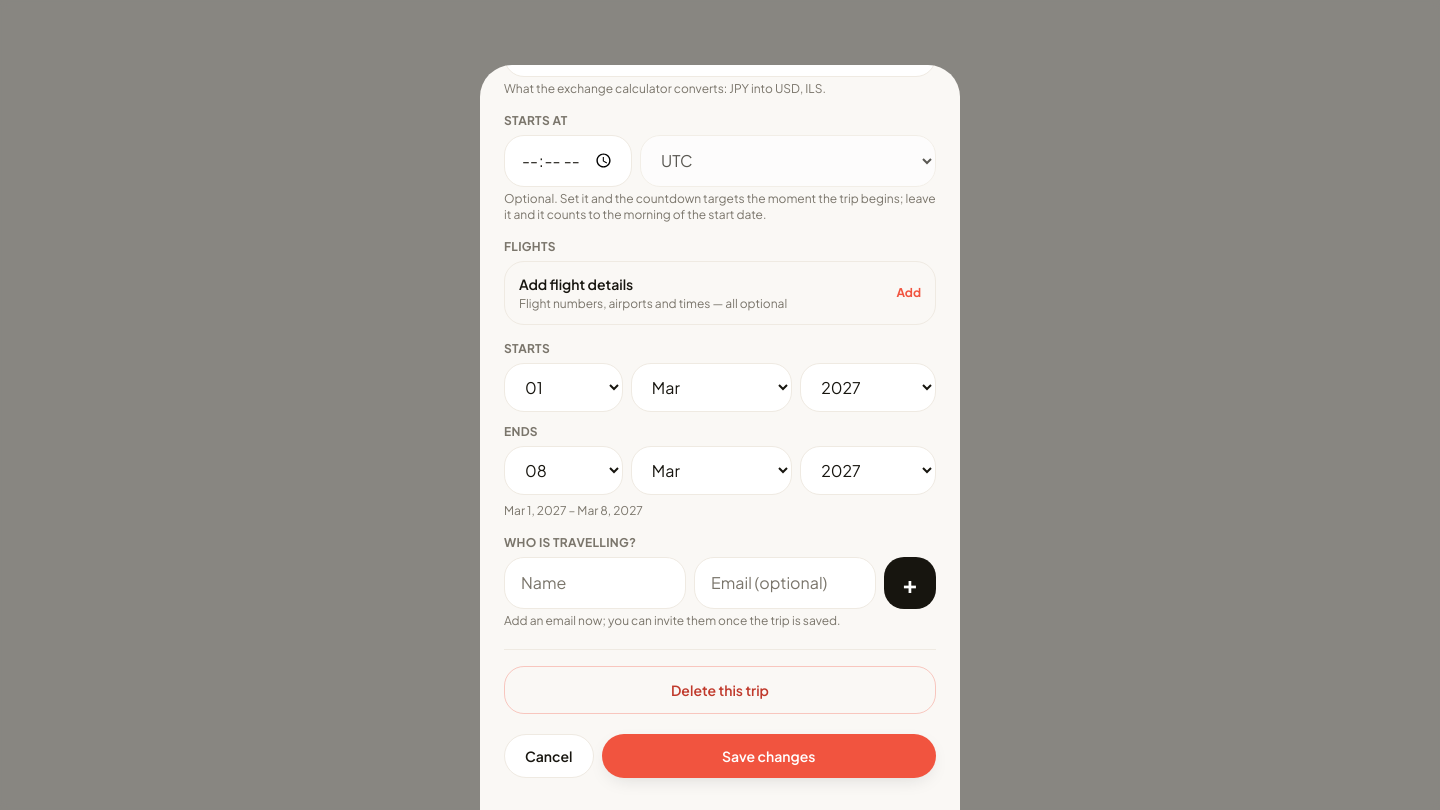
Test: TripSheet date changes that strand activities › says a stop is shortened rather than claiming it keeps its length
(page scrolled)
Select "04" in the dropdown named "End day" at x=563, y=470, box [504,446,623,495]
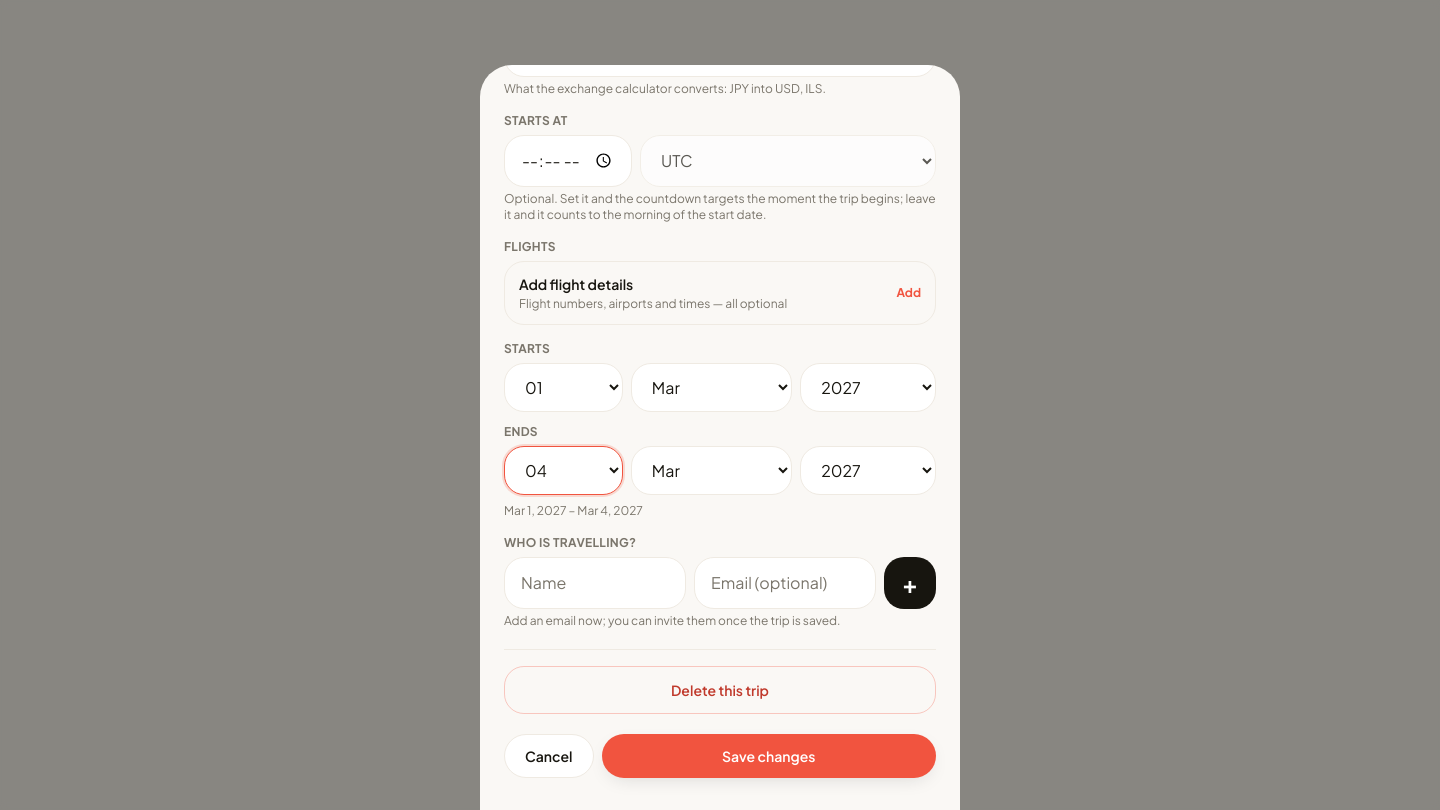
Click the button "Save changes" at x=769, y=756, box [602,734,936,778]
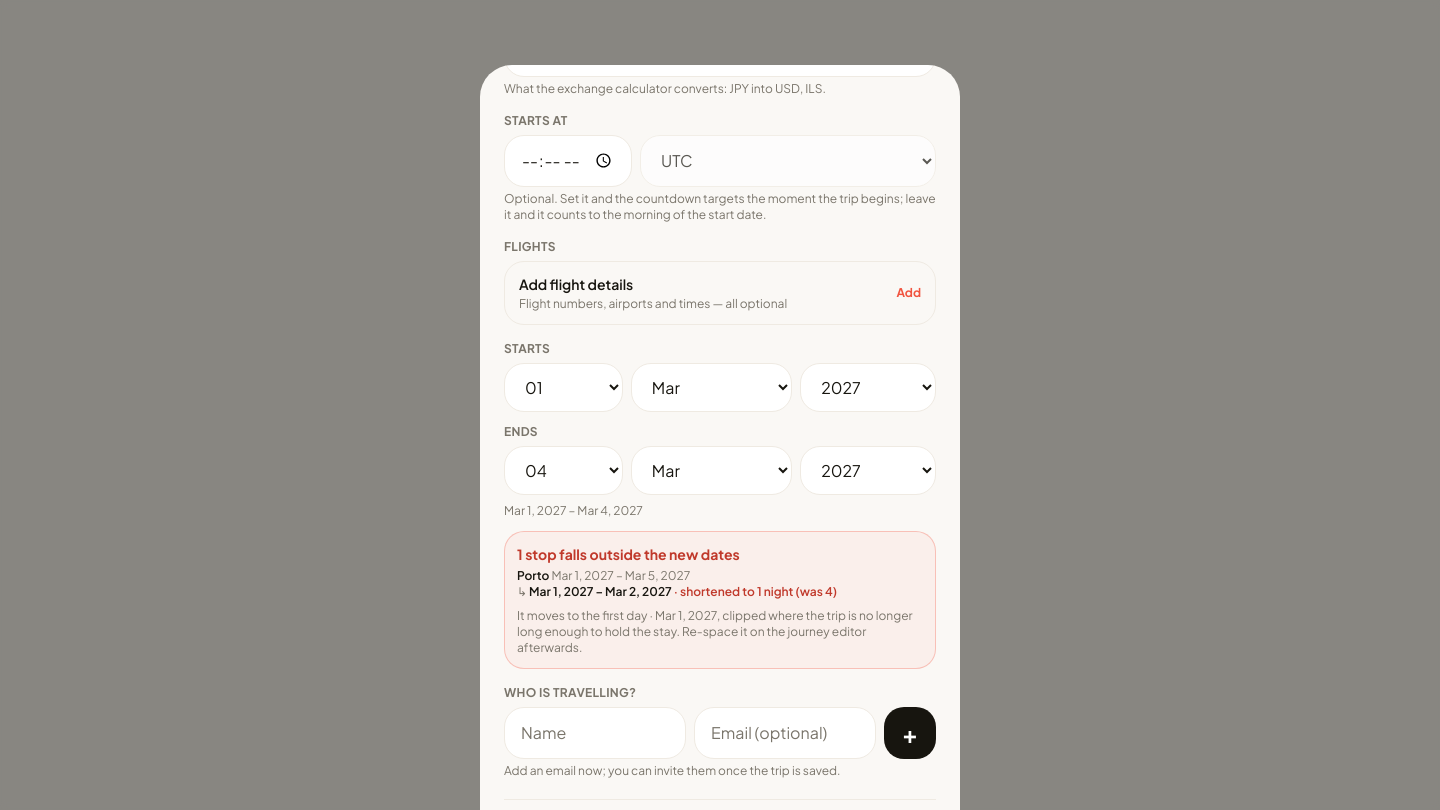
Check: the text "1 stop falls outside the new dates" is shown, box [517,545,740,563]
Check: the text "· shortened to 1 night (was 4)" is shown, box [672,584,837,599]
Check: the text "clipped where the trip is no longer long enough" is shown, box [517,608,913,639]
